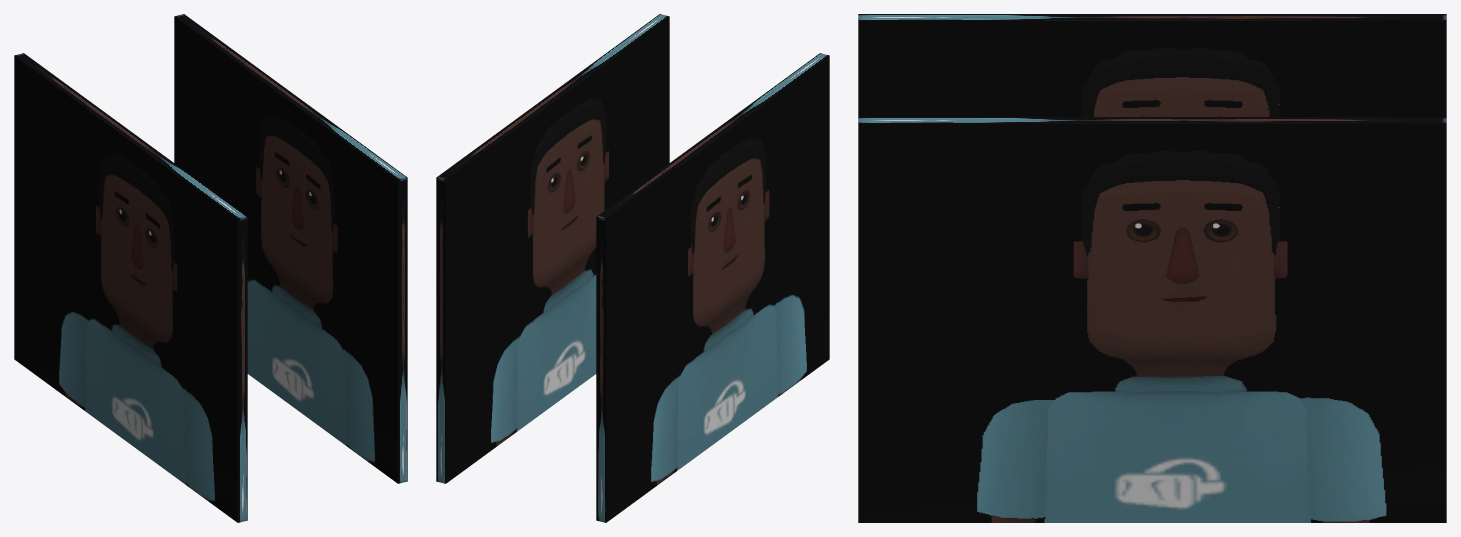
Rendered from nineteen.obj.
3 views of the same model, side by side, from view 1: azimuth 30°, elevation 25°; view 2: azimuth 150°, elevation 25°; view 3: azimuth 270°, elevation 25° (orthographic). The views are drawn at different scales.
Size of the model in its own units: 21.22 by 36.23 by 48.34.
1 material, 1 textured.
